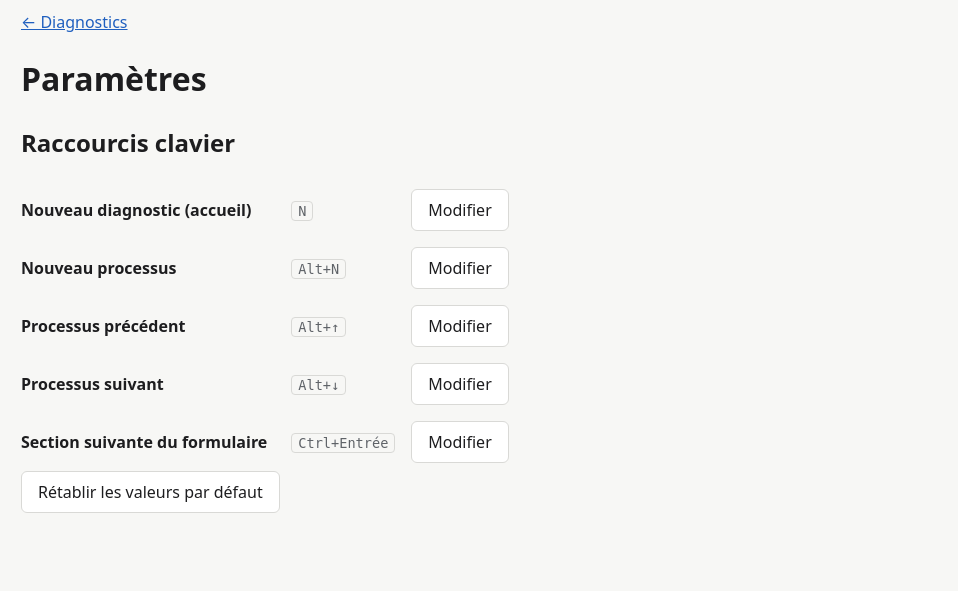
Test: Paramètres › prévient quand le navigateur refuse de retenir les modifications
Click the button "Rétablir les valeurs par défaut" at (150, 492), box [21,471,280,513]
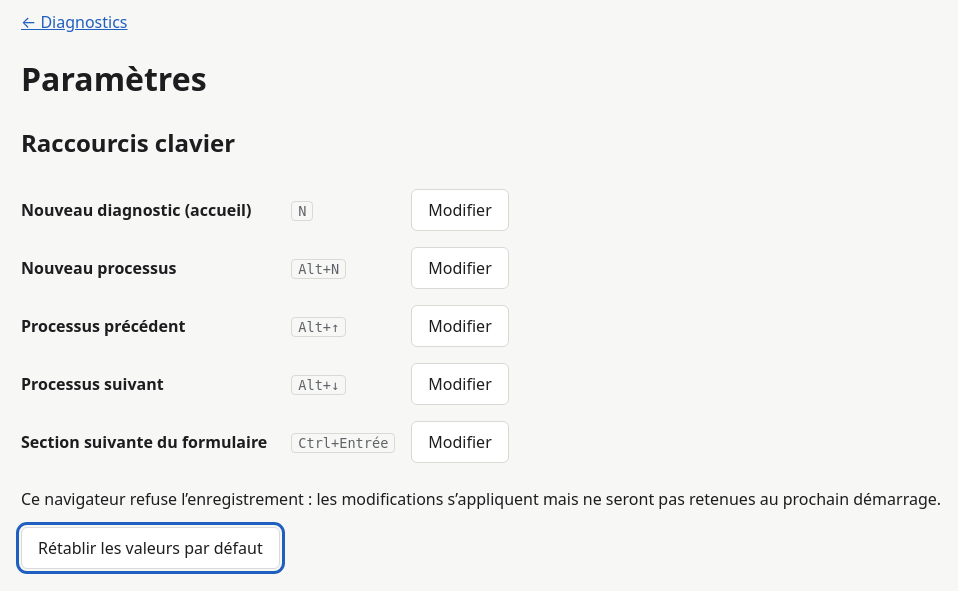
Expected: the text "ne seront pas retenues" is shown, [21,488,941,510]
